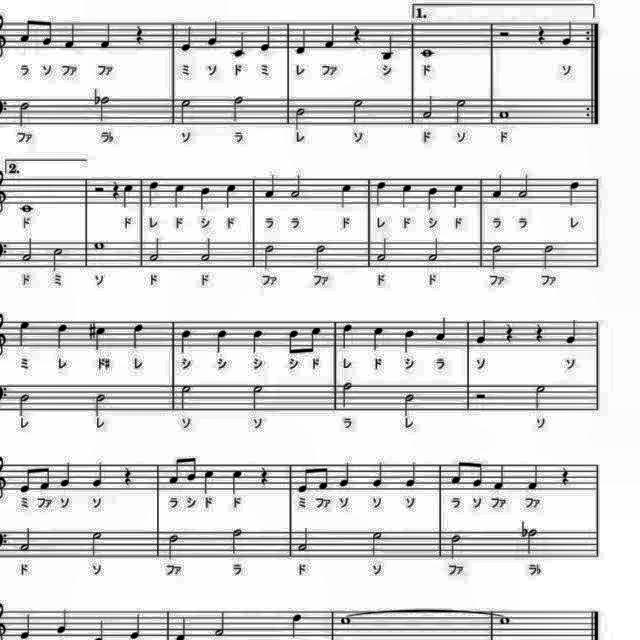Diez: (86, 319, 102, 345)
Eighth-note: (306, 323, 326, 355), (166, 453, 184, 487), (296, 464, 314, 496), (284, 327, 302, 358), (449, 457, 467, 488), (39, 16, 55, 48), (19, 464, 35, 496), (318, 462, 334, 493), (468, 458, 484, 488), (19, 15, 35, 45), (184, 452, 200, 482), (36, 463, 52, 492)
Full-note: (418, 45, 438, 59), (18, 201, 38, 215), (338, 614, 354, 630), (496, 106, 512, 122), (92, 238, 108, 254), (496, 616, 512, 628)
Half-note: (449, 98, 468, 130), (227, 528, 245, 560), (230, 92, 248, 124), (488, 242, 506, 274), (89, 529, 107, 561), (165, 532, 183, 564), (349, 94, 367, 126), (367, 528, 385, 560), (176, 94, 194, 126), (15, 98, 32, 130), (294, 524, 312, 554), (447, 533, 465, 563), (312, 243, 330, 273), (533, 384, 551, 414), (419, 91, 437, 121), (514, 175, 532, 205), (339, 378, 356, 409), (212, 608, 228, 640), (98, 92, 114, 124), (15, 524, 32, 554), (180, 384, 197, 414), (399, 391, 417, 419), (424, 236, 442, 264), (90, 392, 108, 420), (250, 381, 266, 412), (376, 234, 392, 264), (288, 170, 304, 200), (262, 243, 278, 273), (20, 234, 36, 264), (524, 526, 540, 556), (542, 243, 558, 273), (200, 236, 217, 264), (15, 390, 32, 418), (290, 104, 308, 130), (146, 236, 162, 264), (50, 246, 66, 274)
Half-rest: (474, 389, 491, 403), (496, 28, 512, 40), (93, 182, 107, 194)
Quarter-note: (564, 178, 584, 210), (128, 321, 148, 352), (559, 18, 577, 50), (96, 18, 114, 50), (62, 20, 80, 52), (379, 32, 397, 64), (17, 318, 35, 350), (92, 322, 110, 354), (490, 461, 508, 492), (144, 177, 162, 207), (171, 179, 189, 209), (229, 467, 247, 497), (370, 323, 388, 353), (90, 461, 108, 491), (221, 182, 239, 212), (339, 183, 357, 213), (54, 322, 72, 352), (562, 318, 580, 348), (339, 322, 357, 352), (17, 610, 35, 640), (287, 610, 305, 640), (472, 316, 488, 348), (56, 606, 72, 638), (259, 22, 275, 54), (374, 177, 391, 207), (198, 182, 215, 212), (248, 326, 266, 354), (212, 326, 230, 354), (177, 328, 195, 356), (338, 458, 354, 489), (432, 315, 448, 345), (490, 170, 506, 200), (526, 463, 542, 493), (398, 180, 414, 210), (405, 462, 421, 492), (232, 30, 248, 60), (368, 461, 384, 491), (292, 26, 308, 56), (264, 170, 280, 200), (58, 459, 74, 489), (322, 20, 338, 50), (178, 23, 194, 53), (121, 182, 137, 212), (424, 184, 441, 212), (449, 180, 466, 208), (399, 326, 416, 354), (202, 468, 218, 497), (206, 18, 220, 50)
Quarter-rest: (132, 21, 148, 47), (532, 321, 548, 347), (532, 22, 548, 46), (500, 320, 516, 344), (256, 462, 270, 488), (122, 462, 136, 488), (558, 466, 574, 488), (350, 22, 364, 46), (109, 179, 121, 201)
